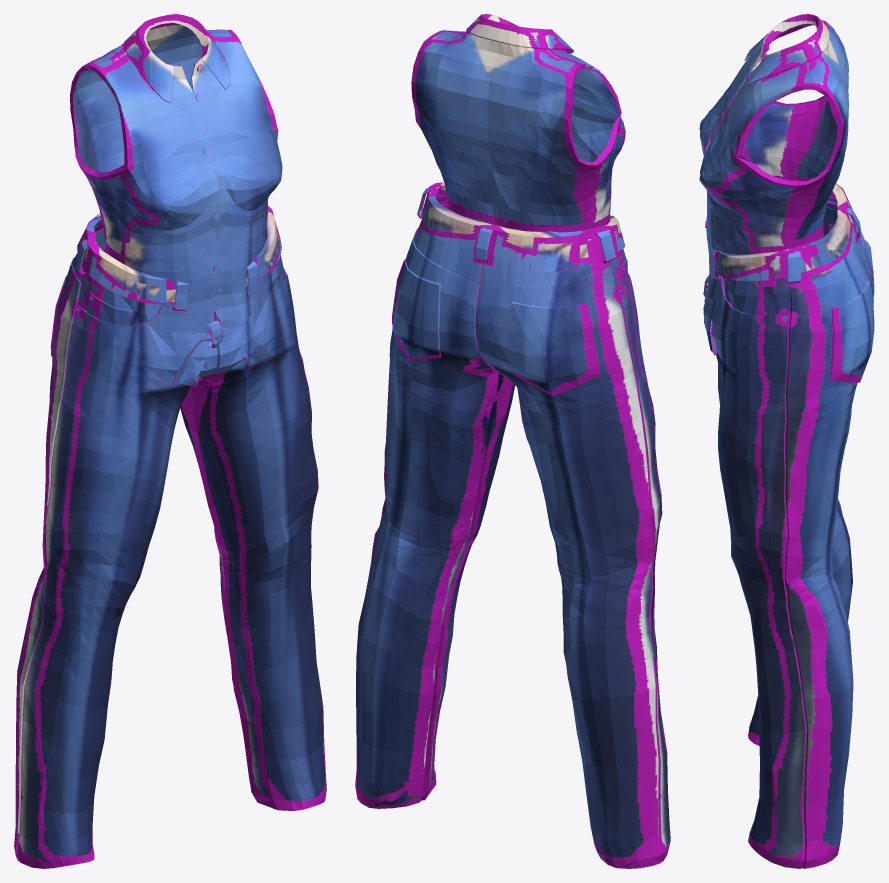
The picture shows the model from 3 angles, left to right: view 1: azimuth 30°, elevation 25°; view 2: azimuth 150°, elevation 25°; view 3: azimuth 270°, elevation 25°; orthographic projection. The views are drawn at different scales.
Size of the model in its own units: 0.3613 by 0.9138 by 0.1871.
1 material, 1 textured.
